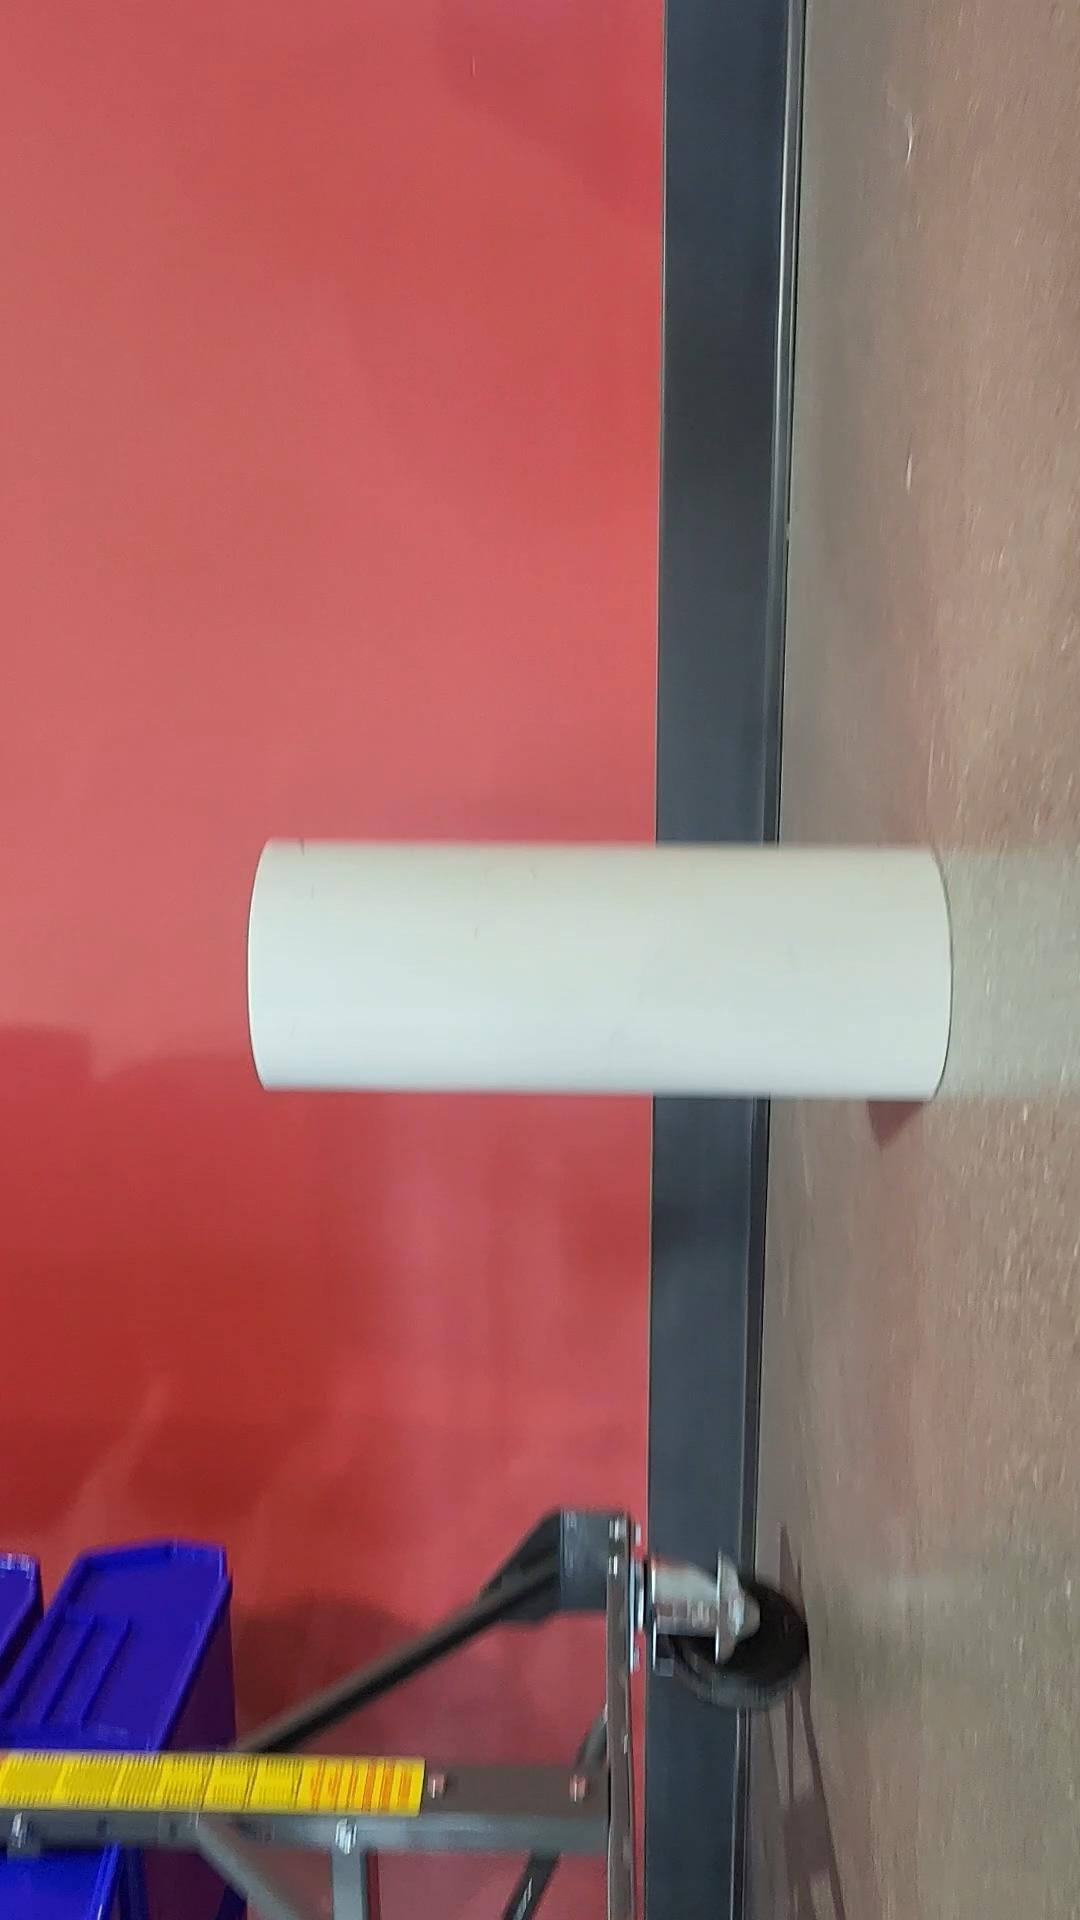coral: (247, 831, 977, 1120)
